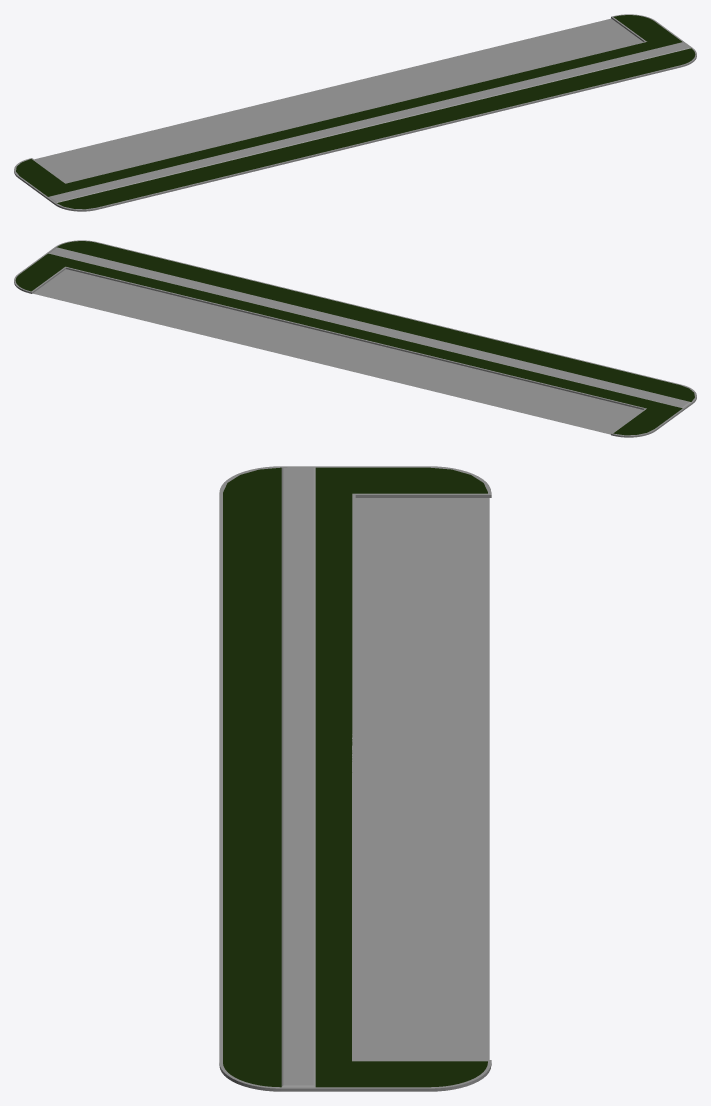
File: RT ParkIs V01.FBX
3 renders of one model, top to bottom at view 1: azimuth 30°, elevation 25°; view 2: azimuth 150°, elevation 25°; view 3: azimuth 270°, elevation 25°, orthographic. The views are drawn at different scales.
Visible parts, largest first — view 1: RT Parkis Lines V01 S, RT ParkIs V01 HI, RT ParkIs V01 LOW, RT ParkIs SideW V01; view 2: RT Parkis Lines V01 S, RT ParkIs V01 HI, RT ParkIs V01 LOW, RT ParkIs SideW V01; view 3: RT Parkis Lines V01 S, RT ParkIs V01 HI, RT ParkIs V01 LOW, RT ParkIs SideW V01.
Part boxes in pixels (box(x1,y1,x2,y2)): RT Parkis Lines V01 S: box(34, 18, 642, 182); RT ParkIs V01 HI: box(14, 14, 696, 211); RT ParkIs V01 LOW: box(14, 108, 373, 209); RT ParkIs SideW V01: box(48, 42, 690, 202); RT Parkis Lines V01 S: box(33, 269, 642, 434); RT ParkIs V01 HI: box(14, 240, 696, 437); RT ParkIs V01 LOW: box(15, 267, 696, 437); RT ParkIs SideW V01: box(48, 247, 690, 408); RT Parkis Lines V01 S: box(355, 498, 489, 1059); RT ParkIs V01 HI: box(219, 466, 491, 1091); RT ParkIs V01 LOW: box(219, 466, 491, 1091); RT ParkIs SideW V01: box(281, 467, 315, 1087).
Size of the model in its own units: 65 by 0.1906 by 12.01.
